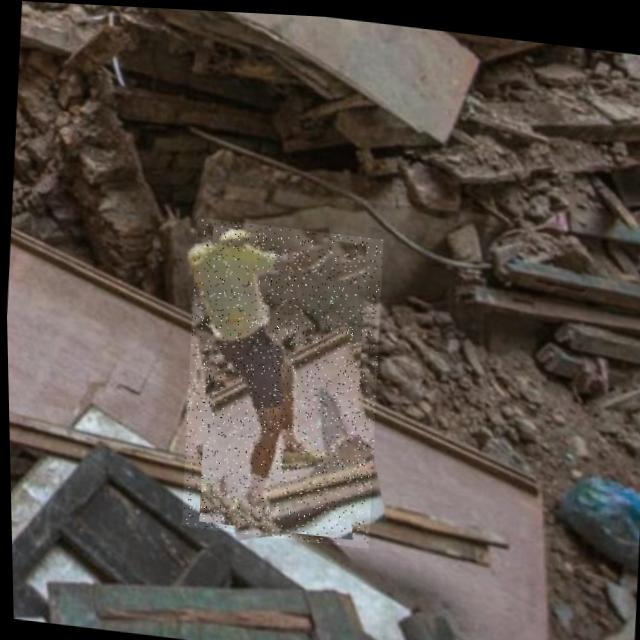Person in Rubble: (174, 214, 387, 545)
